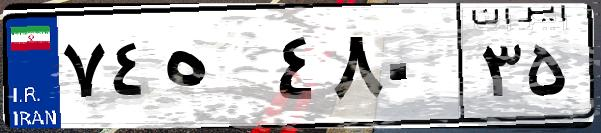0: (385, 28, 445, 110)
3: (475, 38, 525, 113)
4: (270, 28, 330, 110), (110, 28, 158, 98)
5: (525, 38, 570, 115)
7: (57, 26, 110, 100)
8: (330, 28, 385, 110)
ه: (158, 20, 270, 120)
